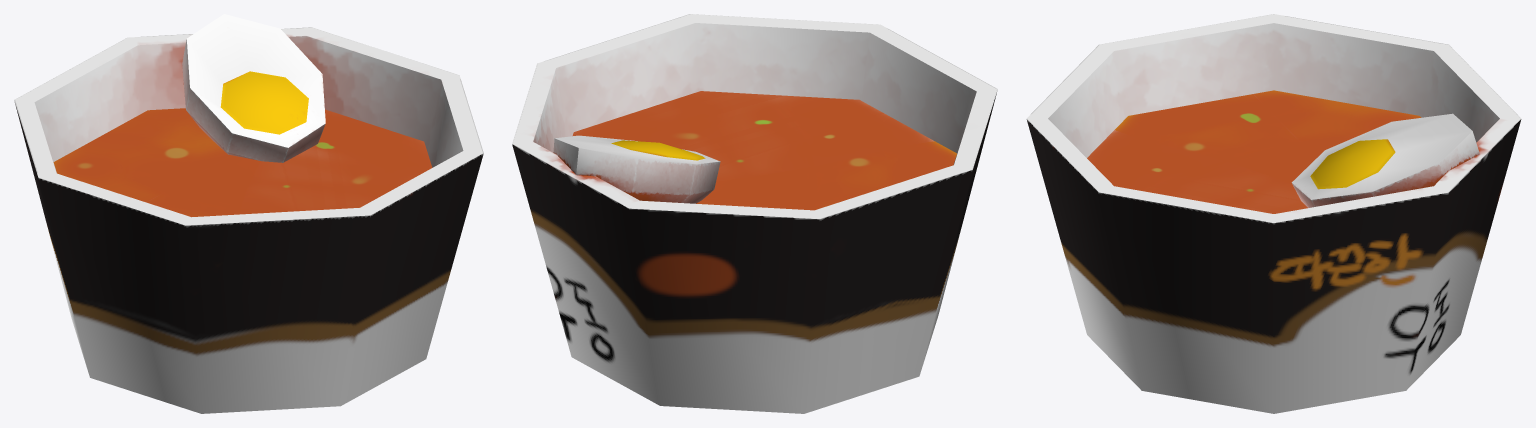
The model's file is ramen_1.fbx.
3 renders of one model, left to right at view 1: azimuth 30°, elevation 25°; view 2: azimuth 150°, elevation 25°; view 3: azimuth 270°, elevation 25°, orthographic. The views are drawn at different scales.
Parts seen in each view (by area): view 1: Cylinder.002; view 2: Cylinder.002; view 3: Cylinder.002.
Part boxes in pixels (x1=…): Cylinder.002: x1=14, y1=14, x2=483, y2=413; Cylinder.002: x1=512, y1=14, x2=997, y2=413; Cylinder.002: x1=1026, y1=14, x2=1521, y2=413.
Size of the model in its own units: 14.05 by 7.52 by 14.05.
